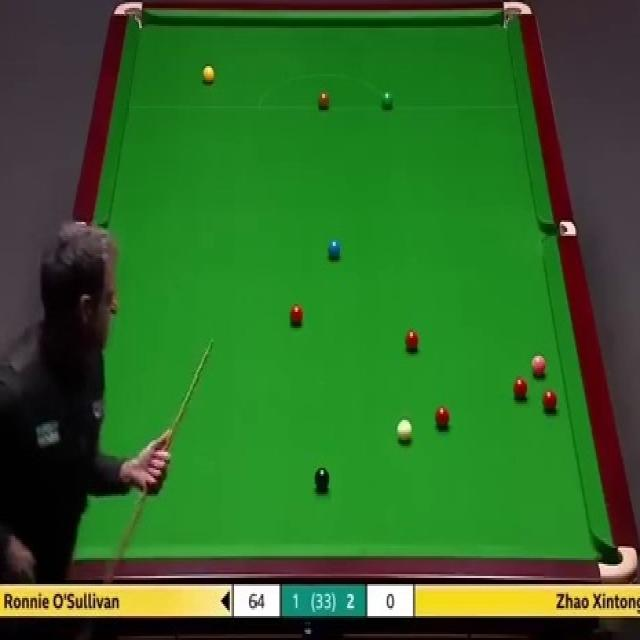pocket: (596, 545, 638, 583), (112, 0, 145, 32), (501, 2, 530, 30), (541, 220, 575, 237)
